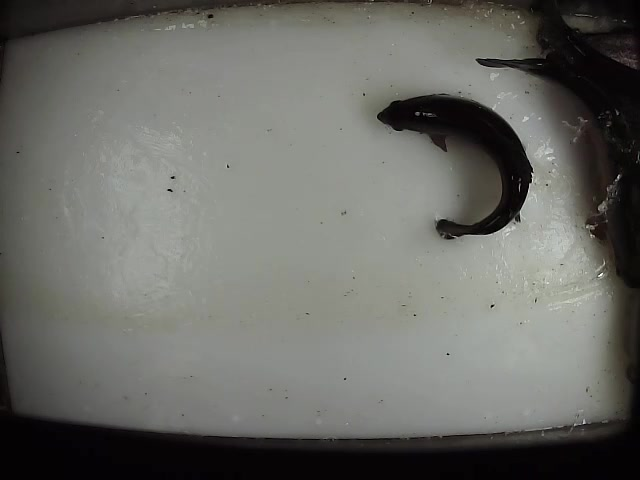fish: (375, 91, 537, 242)
